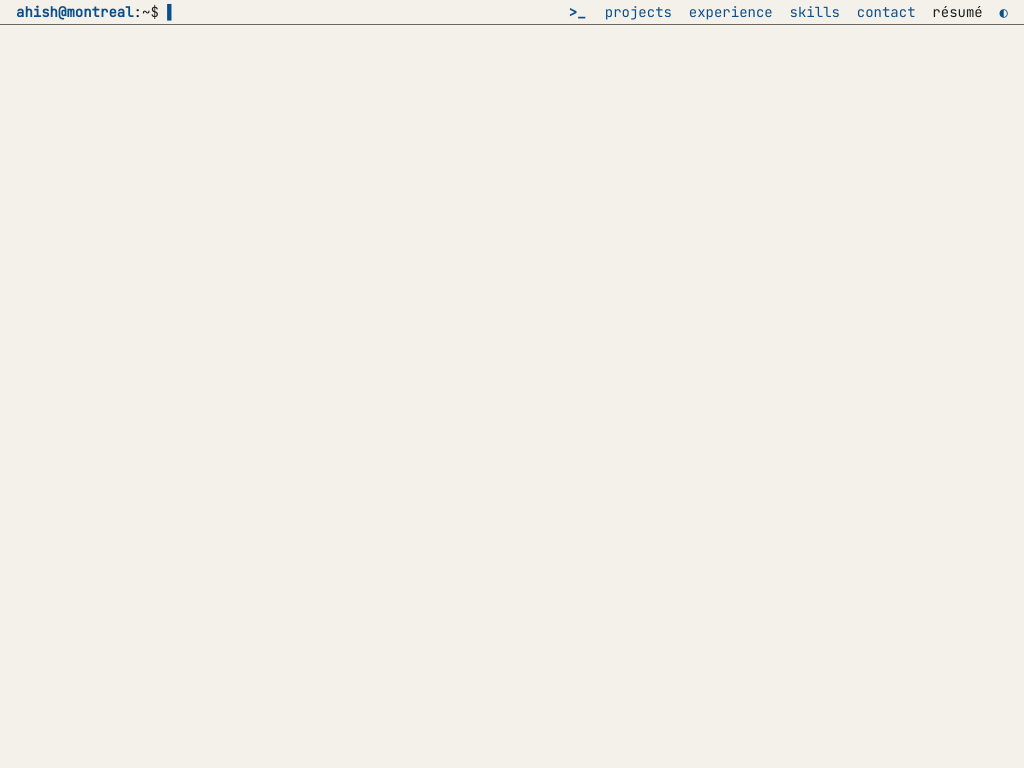
SiteHeader › has a terminal button that toggles the terminal
Click the button named "open terminal" at (577, 12), box [569,0,586,24]
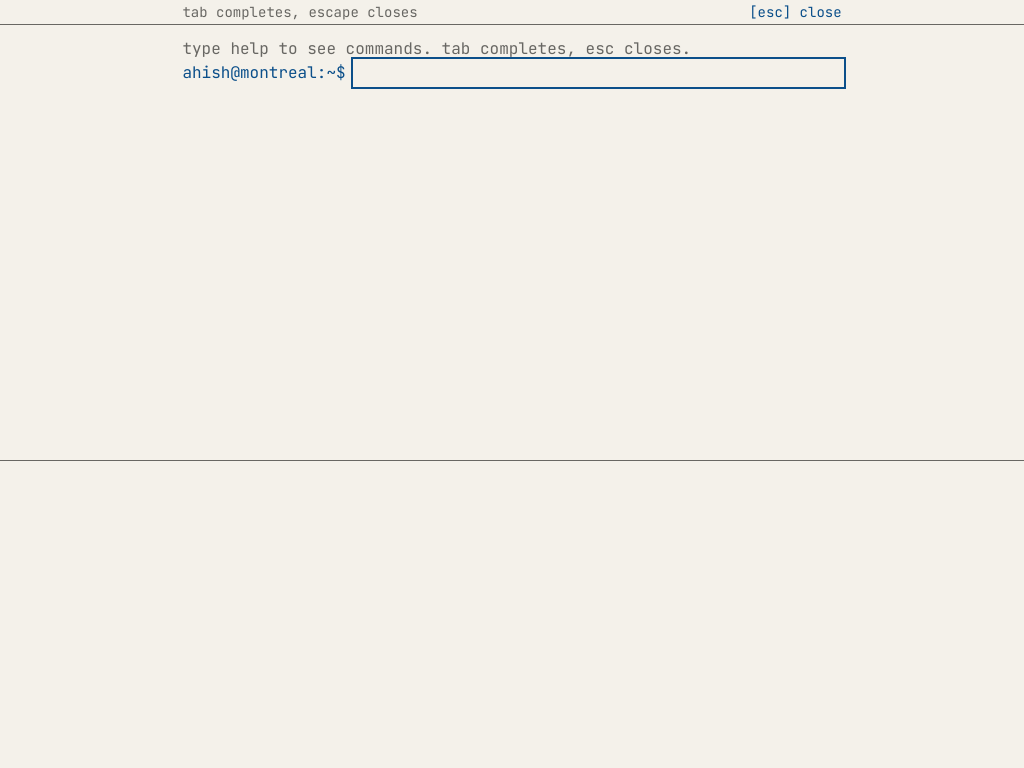
Check: the field named "command" is shown, box [355,61,842,85]
Check: the button named "open terminal" is expanded, box [569,0,586,24]
Press Escape
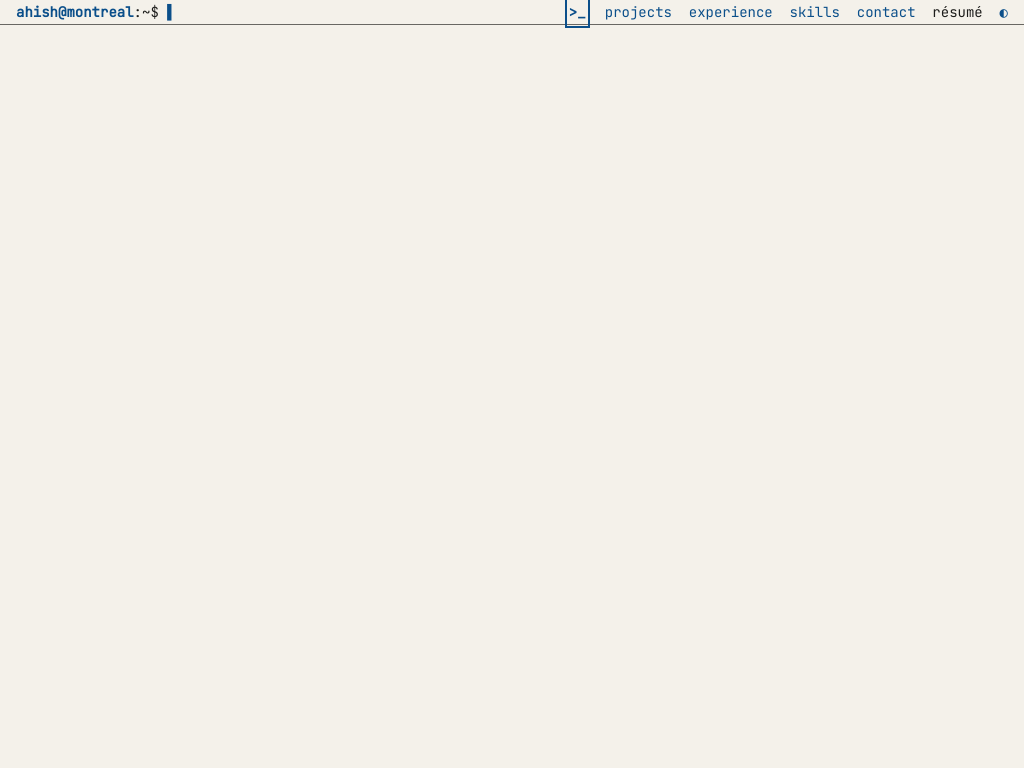
Check: the button named "open terminal" is collapsed, box [569,0,586,24]
